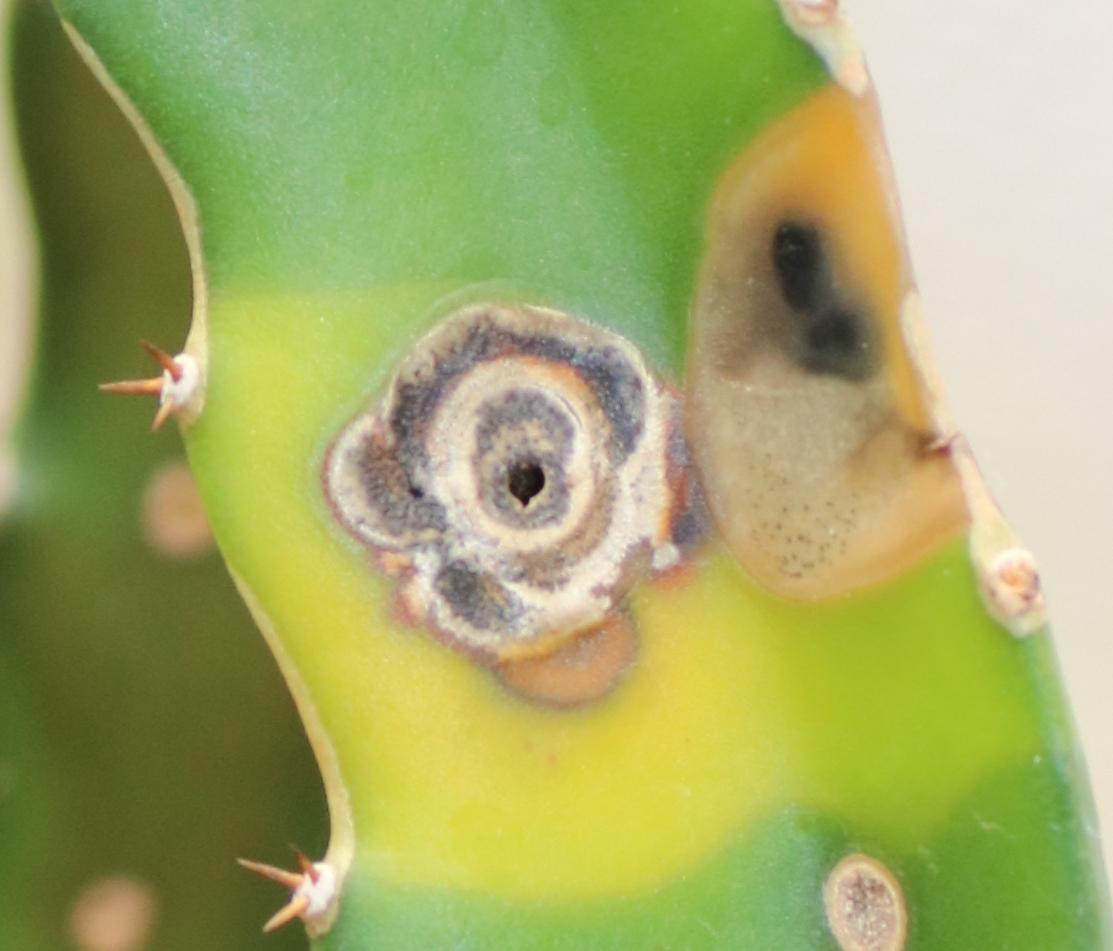stemcanker: (306, 287, 707, 710), (689, 133, 970, 605)
